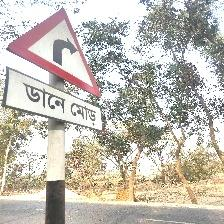Right-turn: (2, 6, 103, 133)
